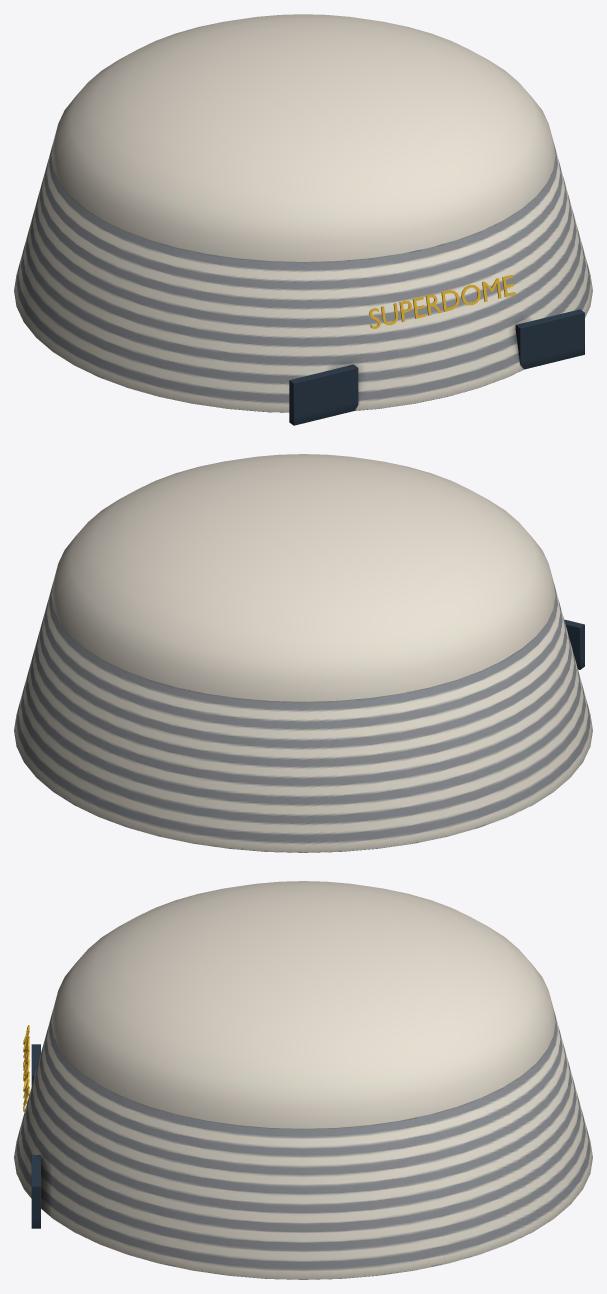
File: superdome.glb
3 renders of one model, top to bottom at view 1: azimuth 30°, elevation 25°; view 2: azimuth 150°, elevation 25°; view 3: azimuth 270°, elevation 25°, orthographic.
Parts seen in each view (by area): view 1: superdome; view 2: superdome; view 3: superdome.
Boxes of the visible parts, x1,y1,x2,y2 form: superdome: [14, 14, 592, 425]; superdome: [14, 454, 592, 852]; superdome: [14, 881, 592, 1279].
Bounding box in the file's own units: 61.99 × 27 × 61.99.
Materials: 1 (1 with a texture image).
